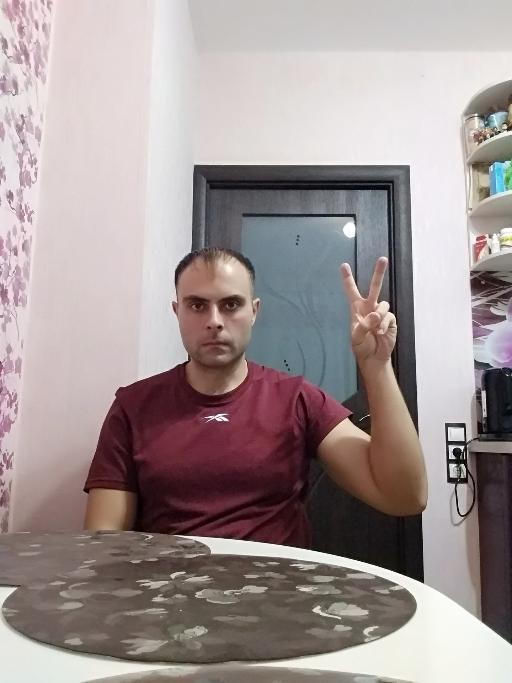peace: (338, 254, 399, 365)
